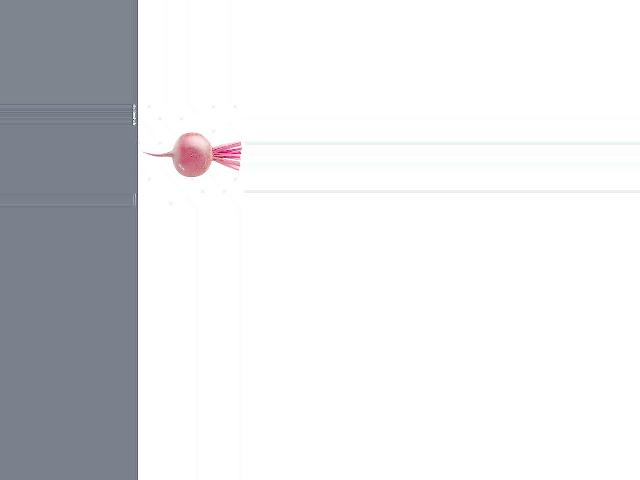beet: (140, 133, 241, 177)
